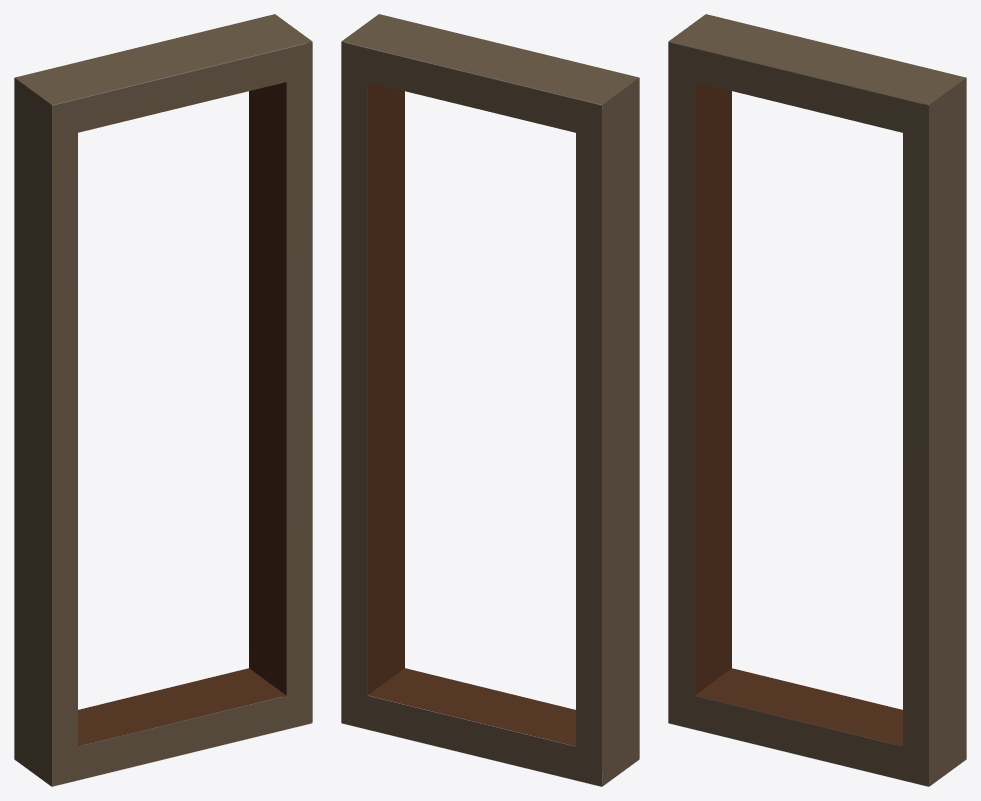
File: ExitDoorNew.fbx
3 renders of one model, left to right at view 1: azimuth 30°, elevation 25°; view 2: azimuth 150°, elevation 25°; view 3: azimuth 330°, elevation 25°, orthographic.
Visible parts, largest first — view 1: DoorFrame; view 2: DoorFrame; view 3: DoorFrame.
Part boxes in pixels (x1,y1,x2,y2): DoorFrame: (14,14,312,786); DoorFrame: (341,14,639,786); DoorFrame: (668,14,966,786).
Bounding box in the file's own units: 1 × 2.5 × 0.2501.
